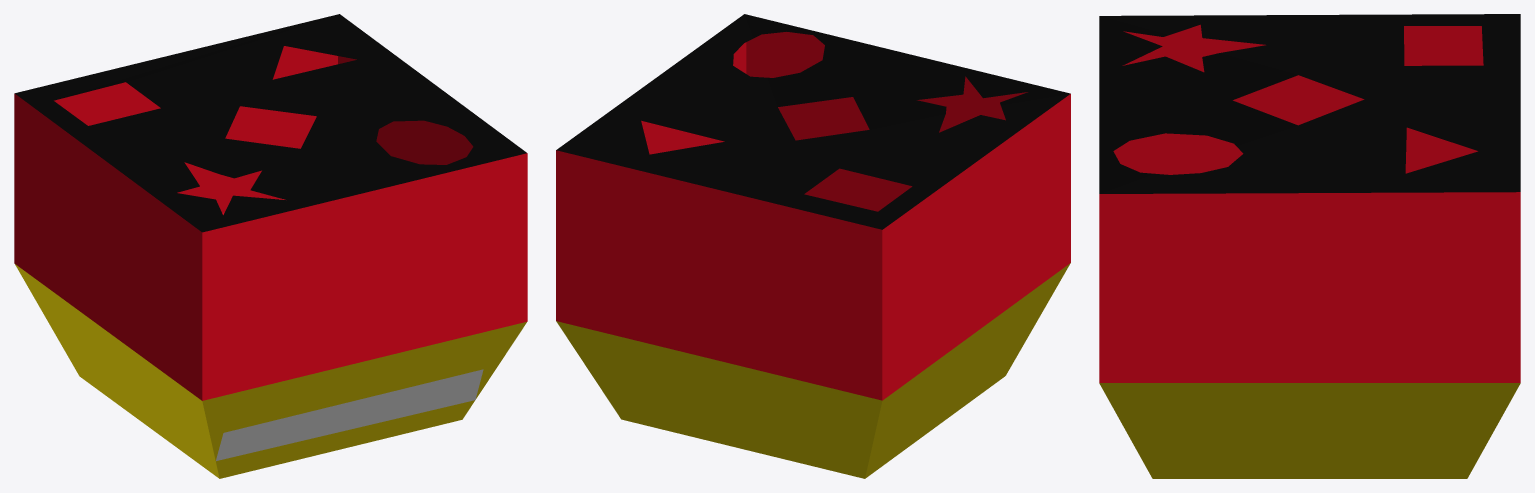
File: Puzzle2Box.fbx
3 renders of one model, left to right at view 1: azimuth 30°, elevation 25°; view 2: azimuth 150°, elevation 25°; view 3: azimuth 270°, elevation 25°, orthographic. The views are drawn at different scales.
Visible parts, largest first — view 1: Puzzle2Toy; view 2: Puzzle2Toy; view 3: Puzzle2Toy.
Boxes of the visible parts, x1,y1,x2,y2 form: Puzzle2Toy: (14,14,527,478); Puzzle2Toy: (556,14,1070,478); Puzzle2Toy: (1099,14,1520,478).
Bounding box in the file's own units: 268 × 217 × 268.
